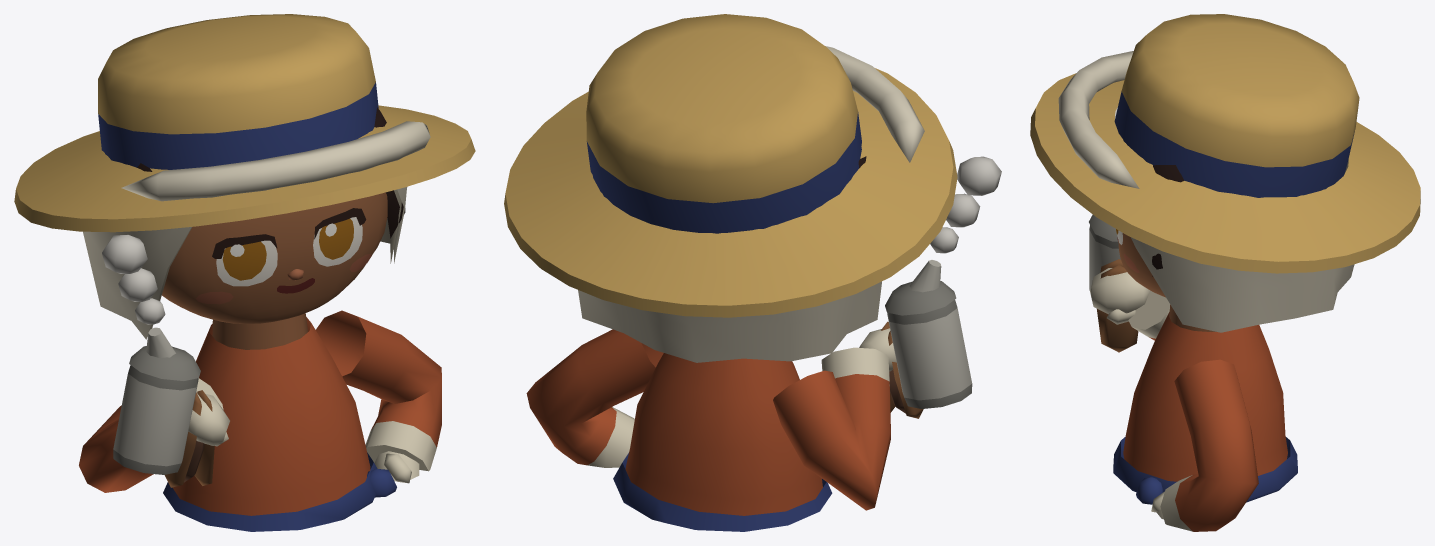
Rendered from beekeeper_bust.glb.
The picture shows the model from 3 angles, left to right: view 1: azimuth 30°, elevation 25°; view 2: azimuth 150°, elevation 25°; view 3: azimuth 270°, elevation 25°; orthographic projection. The views are drawn at different scales.
Visible parts, largest first — view 1: beekeeper_bust; view 2: beekeeper_bust; view 3: beekeeper_bust.
Boxes of the visible parts, x1=… form: beekeeper_bust: x1=14, y1=14, x2=475, y2=531; beekeeper_bust: x1=504, y1=14, x2=1001, y2=531; beekeeper_bust: x1=1030, y1=14, x2=1420, y2=531.
Size of the model in its own units: 0.5521 by 0.5844 by 0.5036.
